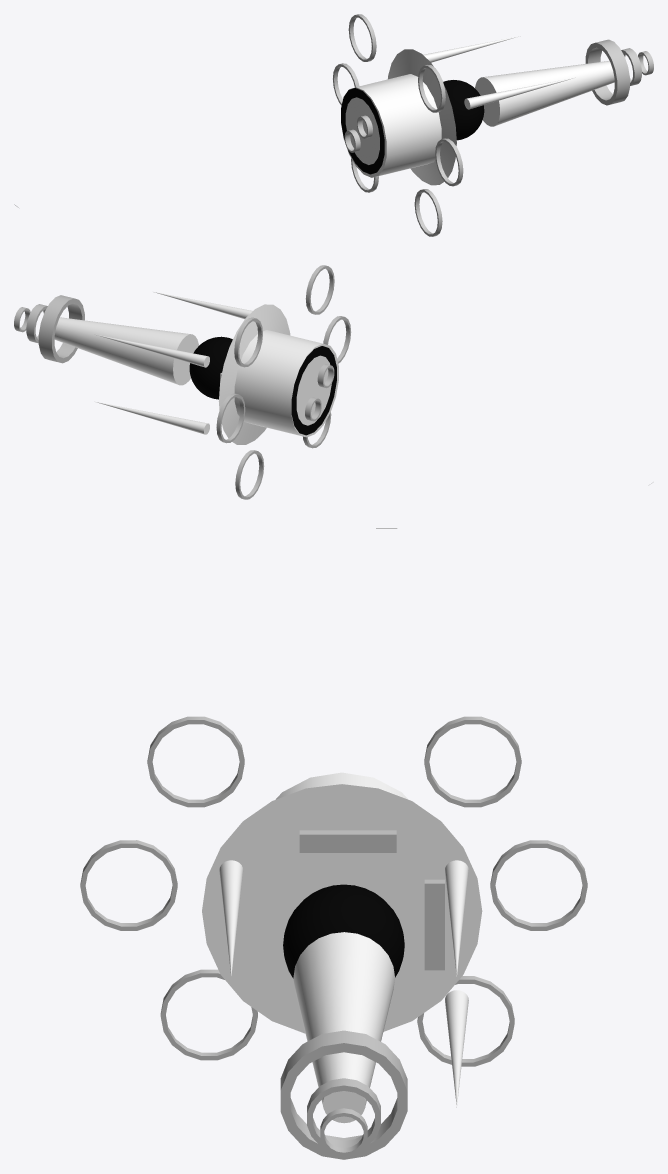
The model's file is superShip.FBX.
3 views of the same model, one above another, from view 1: azimuth 30°, elevation 25°; view 2: azimuth 150°, elevation 25°; view 3: azimuth 270°, elevation 25° (orthographic). The views are drawn at different scales.
Parts seen in each view (by area): view 1: Cylinder001, Cone002, Cone001, Tube012, Sphere001, Tube011, Cone004, Tube002, Tube005, Tube004, Tube006, Cone003 (+2 smaller); view 2: Cylinder001, Cone002, Cone001, Tube012, Sphere001, Tube011, Cone003, Cone005, Tube004, Tube007, Tube005, Tube001 (+3 smaller); view 3: Cone001, Cone002, Sphere001, Tube012, Box004, Tube005, Tube004, Tube001, Tube002, Box003, Tube013, Tube006 (+6 smaller).
Boxes of the visible parts, x1,y1,x2,y2 form: Cylinder001: (341,74,441,177); Cone002: (475,61,614,126); Cone001: (388,49,456,185); Tube012: (585,39,629,105); Sphere001: (443,80,484,140); Tube011: (341,88,384,174); Cone004: (464,77,575,109); Tube002: (435,138,463,186); Tube005: (418,64,445,112); Tube004: (348,14,376,61); Tube006: (414,189,442,236); Cone003: (423,36,520,62); Cylinder001: (234,330,338,437); Cone002: (54,317,198,385); Cone001: (218,304,290,444); Tube012: (38,295,84,363); Sphere001: (189,336,232,399); Tube011: (291,346,336,435); Cone003: (94,334,209,367); Cone005: (95,401,209,434); Tube004: (234,317,262,367); Tube007: (235,450,264,499); Tube005: (305,265,334,314); Tube001: (216,393,245,443); Cone001: (202,784,482,1033); Cone002: (293,932,394,1123); Sphere001: (283,884,404,978); Tube012: (280,1030,407,1159); Box004: (299,830,396,852); Tube005: (147,716,244,807); Tube004: (424,716,521,807); Tube001: (490,840,587,930); Tube002: (80,840,177,930); Box003: (424,879,444,970); Tube013: (307,1078,380,1148); Tube006: (160,969,257,1060).
Bounding box in the file's own units: 250 × 66.47 × 88.37.
